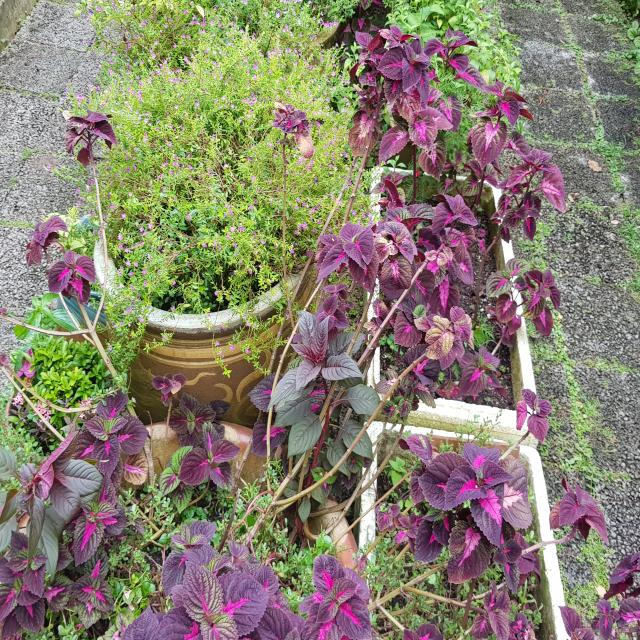Coleus: (248, 233, 509, 470), (0, 391, 137, 640), (357, 29, 532, 194), (401, 436, 533, 603), (150, 365, 250, 504), (132, 556, 278, 640), (293, 519, 392, 640), (484, 116, 563, 246), (11, 198, 99, 313), (313, 201, 419, 291), (553, 549, 640, 640), (482, 260, 570, 334), (546, 469, 614, 548), (66, 95, 120, 183), (272, 97, 316, 142)
